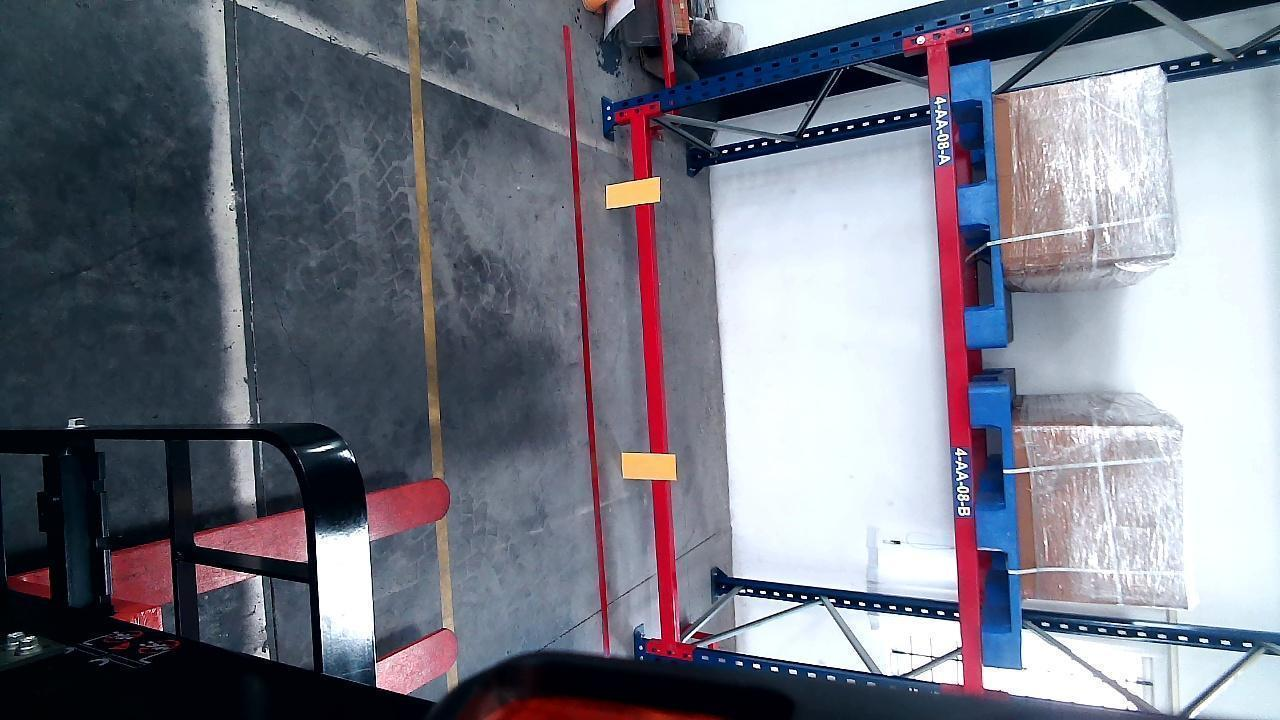red_line: (571, 66, 608, 630)
yellow_line: (406, 10, 460, 710)
